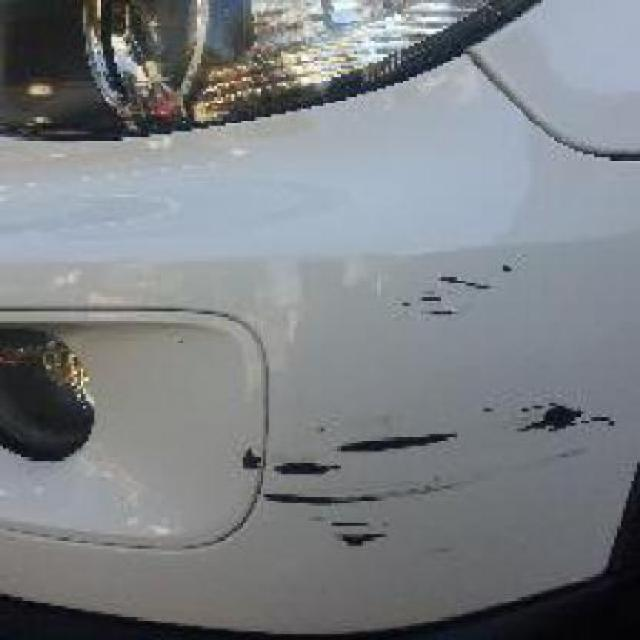dent-or-scratch: (239, 256, 604, 566)
